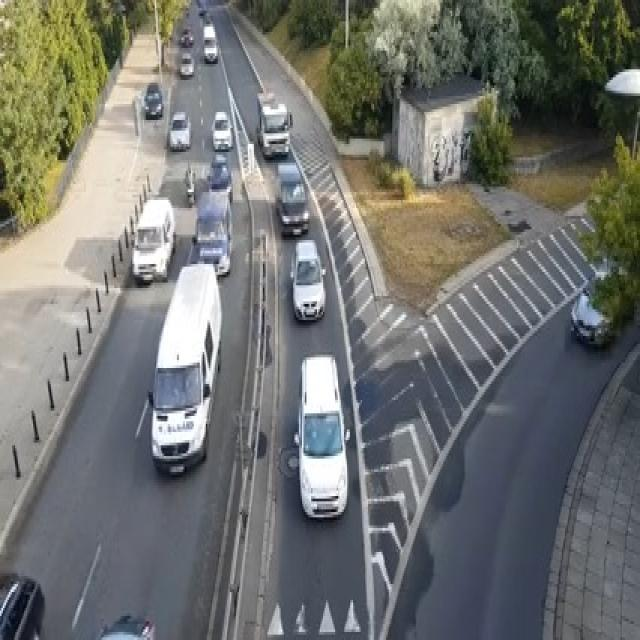bus: (148, 258, 222, 474)
car: (293, 352, 350, 520), (569, 266, 634, 346), (131, 195, 174, 282), (190, 189, 232, 275), (288, 240, 326, 323), (0, 574, 45, 638), (274, 160, 310, 235), (256, 91, 292, 157), (92, 611, 156, 637), (206, 154, 233, 202), (167, 110, 191, 150), (141, 80, 164, 117), (212, 110, 233, 150), (203, 22, 218, 62), (179, 51, 194, 77), (180, 27, 194, 45), (197, 0, 206, 13)
